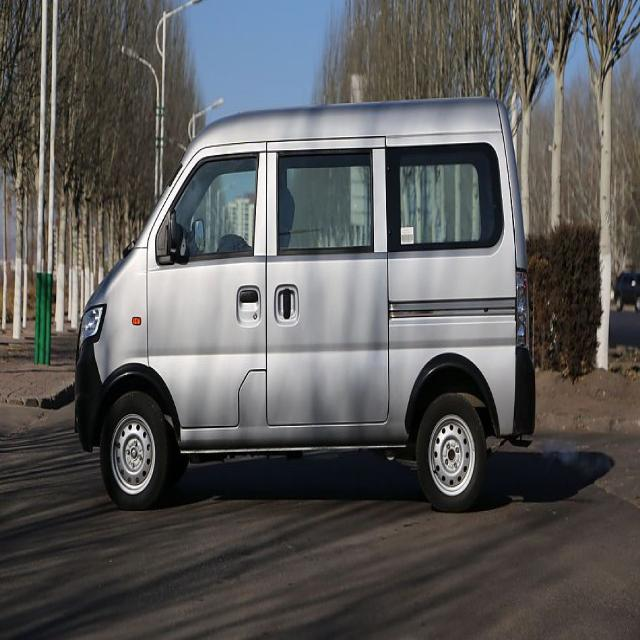back_left_side_light: (514, 262, 532, 352)
door: (267, 146, 390, 432)
front_bumper: (71, 331, 115, 451)
front_left_side_door: (146, 137, 268, 433)
front_left_side_light: (77, 299, 109, 374)
front_left_side_mirror: (162, 208, 180, 262)
rear_bumper: (502, 337, 544, 445)
wheel: (417, 392, 485, 508), (101, 394, 167, 512)
